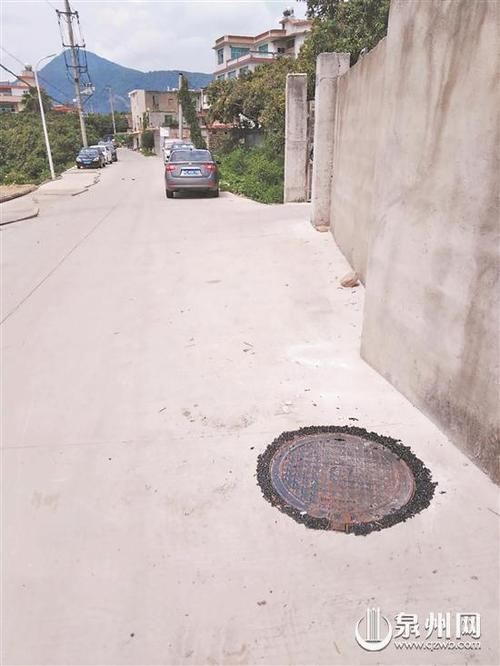good: (231, 409, 459, 547)
